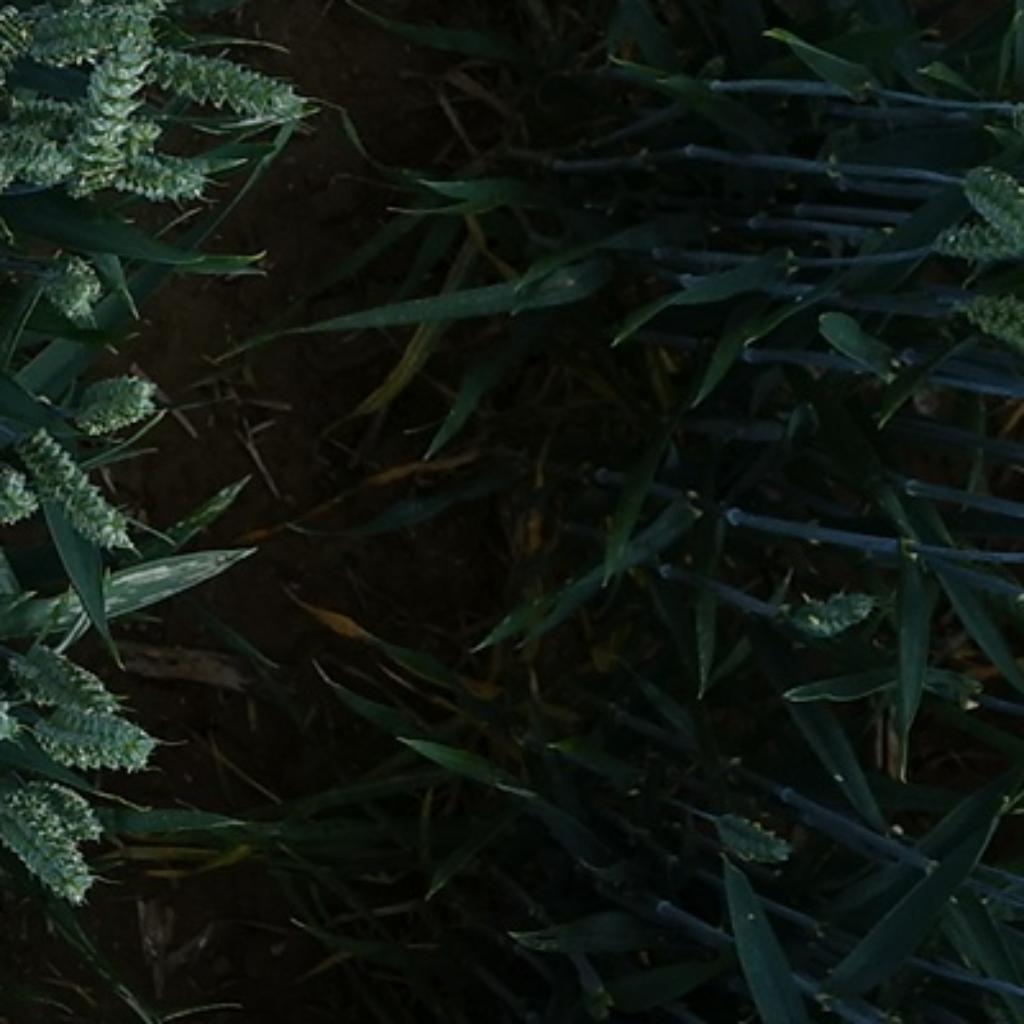0-0: (63, 36, 168, 201), (153, 28, 325, 125), (15, 424, 138, 545), (0, 796, 99, 916), (30, 696, 163, 778), (35, 0, 161, 70), (89, 146, 229, 207), (0, 646, 123, 714), (66, 360, 161, 437), (16, 774, 119, 838), (23, 248, 110, 322), (706, 801, 796, 870), (778, 581, 883, 640), (2, 92, 109, 145), (0, 142, 88, 203), (948, 166, 1024, 230), (929, 227, 1021, 271), (962, 289, 1024, 350), (0, 462, 42, 531), (0, 0, 35, 76), (0, 860, 2, 990), (0, 519, 2, 593), (0, 0, 15, 2)
